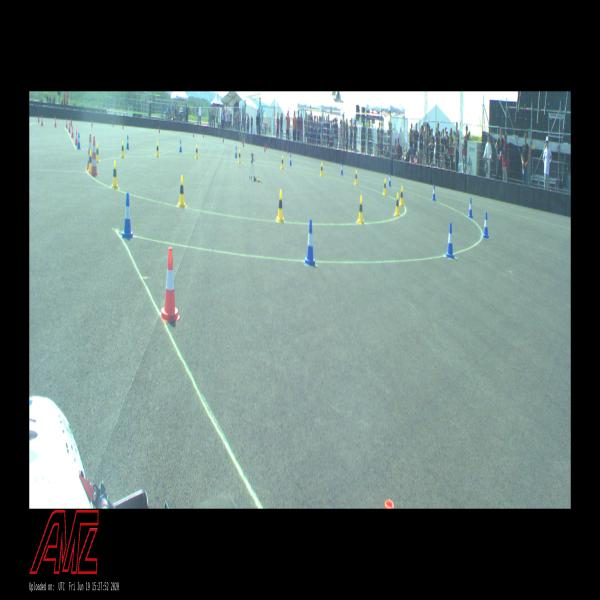blue_cone: (122, 193, 133, 238), (305, 219, 315, 265), (446, 222, 454, 258), (483, 212, 489, 238), (468, 198, 473, 217), (432, 184, 436, 200), (77, 133, 81, 149), (388, 172, 392, 187), (126, 135, 130, 149), (340, 162, 343, 175), (289, 153, 292, 166), (179, 140, 182, 152), (235, 146, 237, 158)
large_orange_cone: (91, 136, 98, 176), (86, 134, 92, 170)
orange_cone: (162, 248, 180, 322), (71, 125, 74, 138), (54, 118, 57, 128), (75, 130, 77, 145), (41, 115, 43, 126), (66, 119, 68, 128), (69, 122, 70, 132)
yellow_cone: (178, 175, 186, 207), (277, 190, 284, 222), (357, 195, 364, 223), (112, 160, 118, 188), (394, 192, 399, 216), (88, 149, 92, 173), (399, 186, 404, 205), (96, 142, 100, 163), (121, 141, 125, 158), (195, 144, 199, 159), (383, 178, 386, 195), (355, 169, 358, 184), (320, 162, 323, 177), (156, 142, 159, 156), (281, 155, 284, 169), (238, 149, 241, 163)
